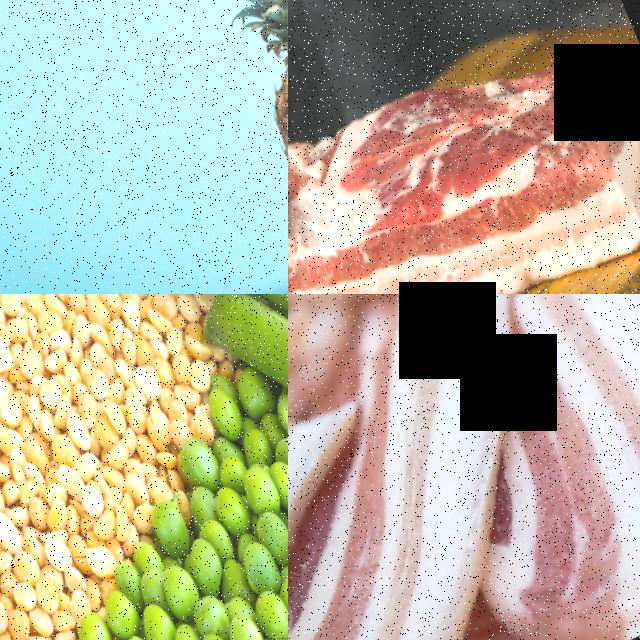peas: (187, 384, 288, 640), (95, 524, 288, 640)
pineapple: (220, 0, 288, 294)
pork belly: (288, 294, 599, 640), (294, 0, 640, 294), (482, 294, 640, 640)
